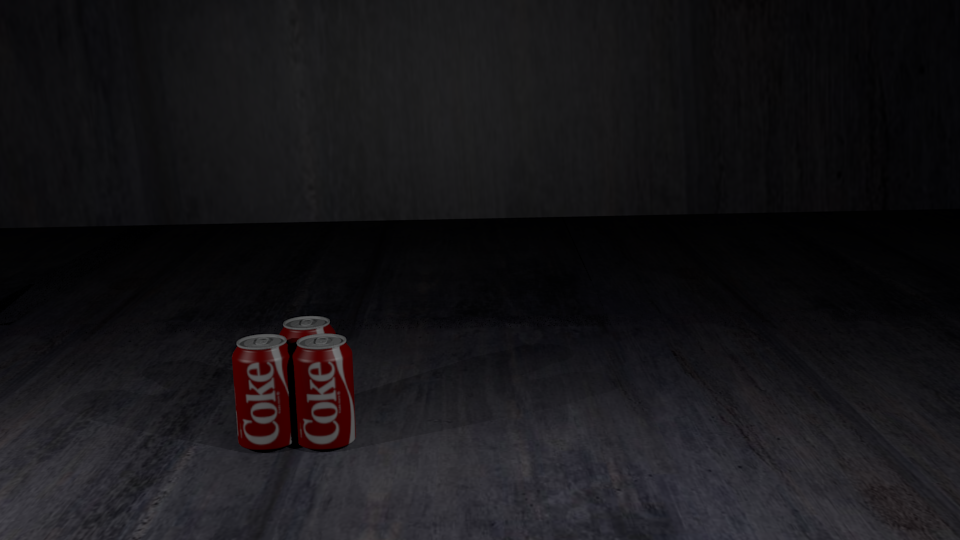cola_can: (232, 334, 294, 447), (292, 334, 354, 445), (279, 316, 334, 423)
